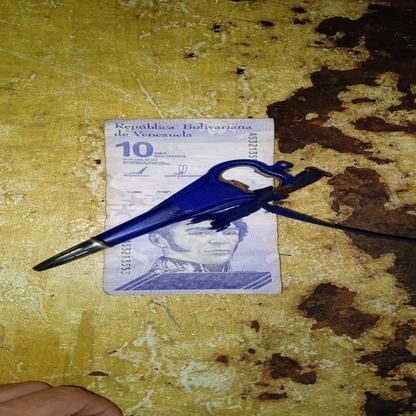ten-front-vef: (104, 119, 284, 294)
